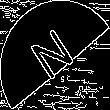N_SE: (27, 23, 83, 87)
